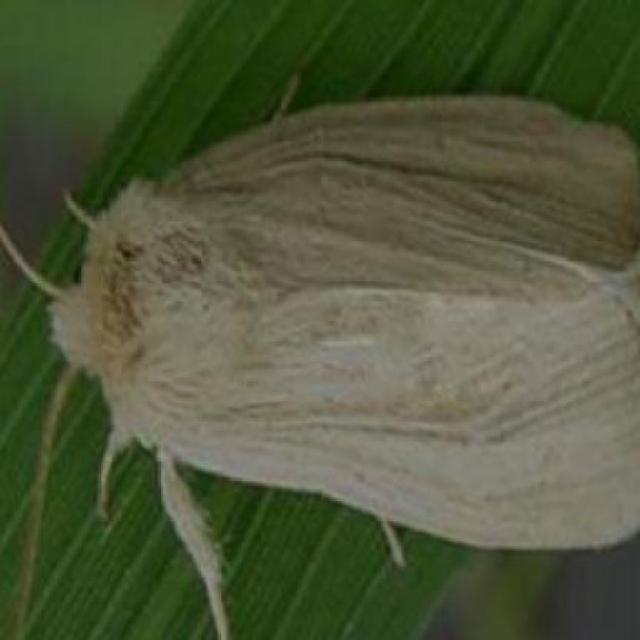stem-borer: (15, 86, 640, 617)
